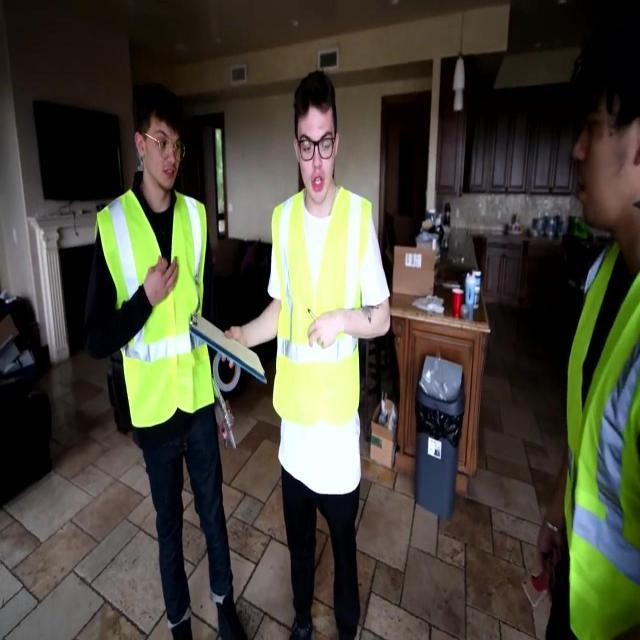reflective_jacket: (561, 216, 639, 639), (90, 187, 220, 432), (266, 186, 373, 465)
